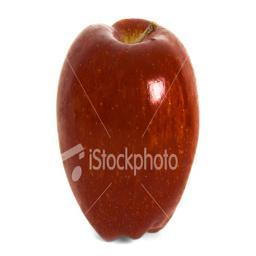apple: (54, 17, 200, 243)
